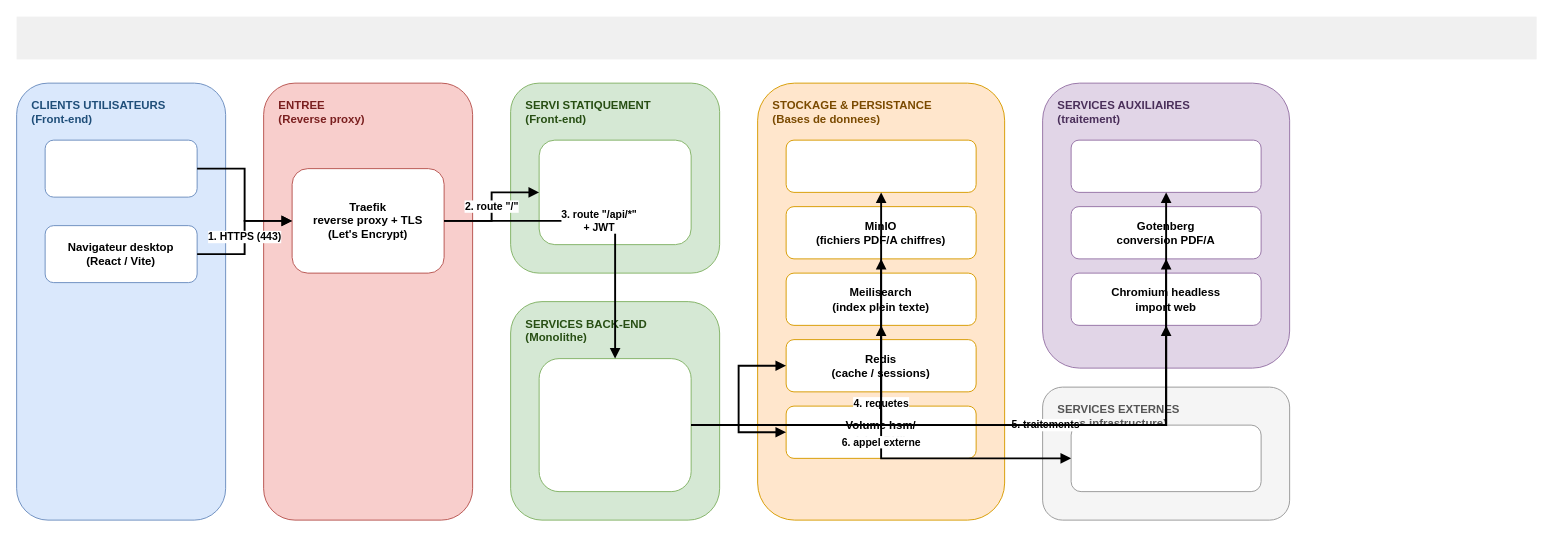
The diagram is 1553 pixels wide and 537 high, and some of its shapes have lost their labels. Each missing label, with the centre of its shape:
"app Spring Boot (monolithe) OCR, PKI, regex, audit, notifications, retention..." goes at pixel 614 425.
"Autorite d'horodatage (TSA, RFC 3161)" goes at pixel 1165 458.
"DIAGRAMME D'ARCHITECTURE : MADEARCHIVE — SYSTEME D'ARCHIVAGE ELECTRONIQUE" goes at pixel 776 37.
"Navigateur mobile (responsive)" goes at pixel 120 168.
"Nginx sert les fichiers React statiques" goes at pixel 614 192.
"Ollama IA locale (regex)" goes at pixel 1165 165.
"PostgreSQL (donnees relationnelles)" goes at pixel 880 165.
